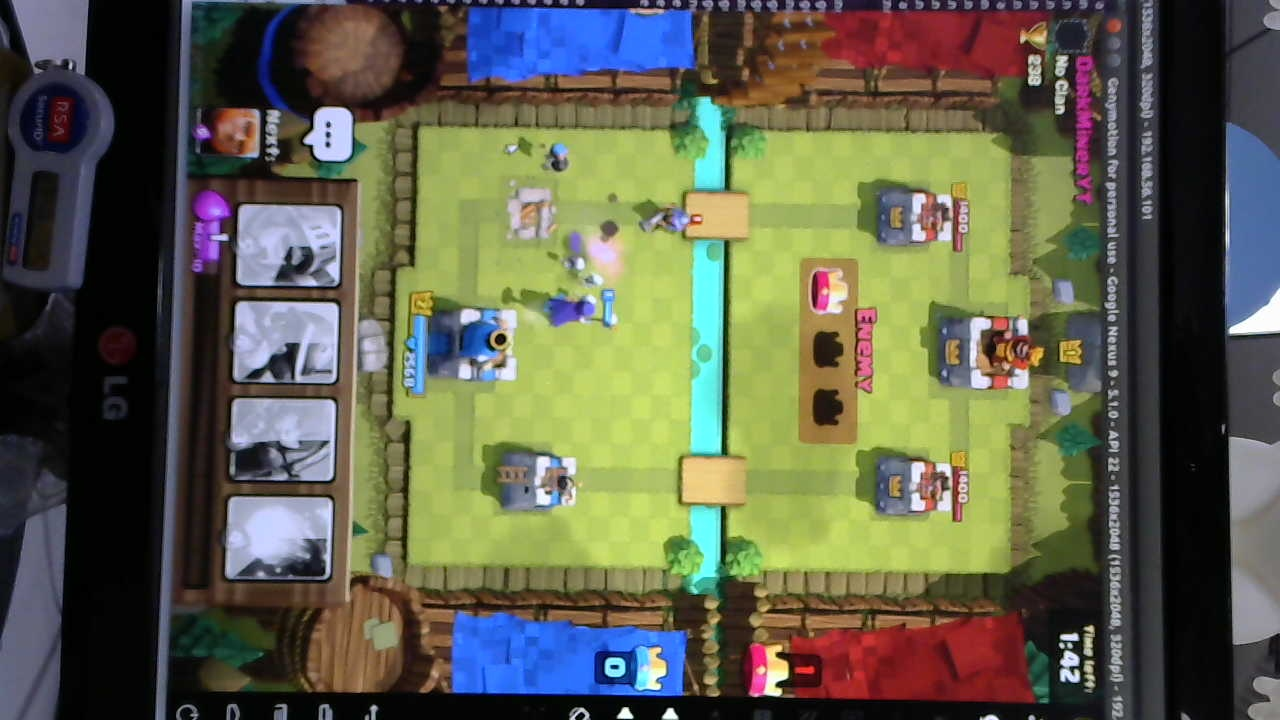arena: (500, 450, 582, 512)
bomb: (538, 138, 573, 175)
darena: (507, 190, 556, 242)
earena: (871, 188, 958, 249), (874, 455, 954, 516)
eking: (932, 309, 1039, 394)
king: (428, 305, 520, 384)
musketeer: (640, 202, 693, 233)
skeleton: (558, 257, 602, 305)
witch: (541, 291, 623, 333)
